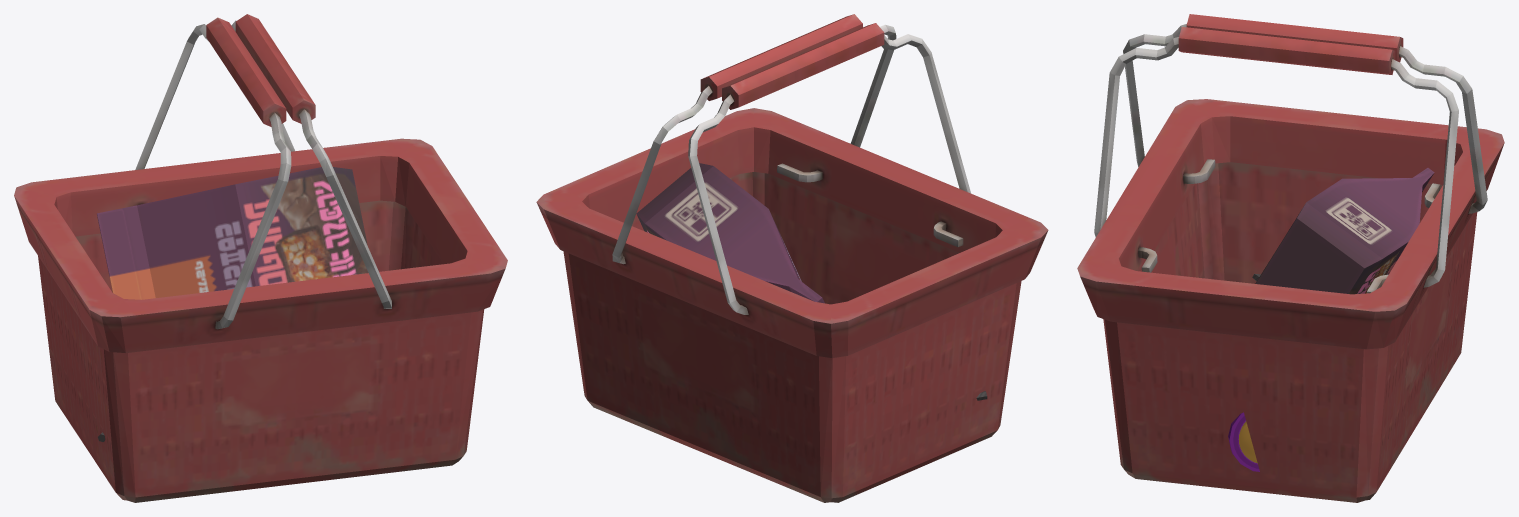
File: P_NEWMaket01_after13.obj
3 views of the same model, side by side, from view 1: azimuth 30°, elevation 25°; view 2: azimuth 150°, elevation 25°; view 3: azimuth 270°, elevation 25° (orthographic). The views are drawn at different scales.
Size of the model in its own units: 0.7215 by 0.6117 by 0.6125.
3 materials, 3 textured.
